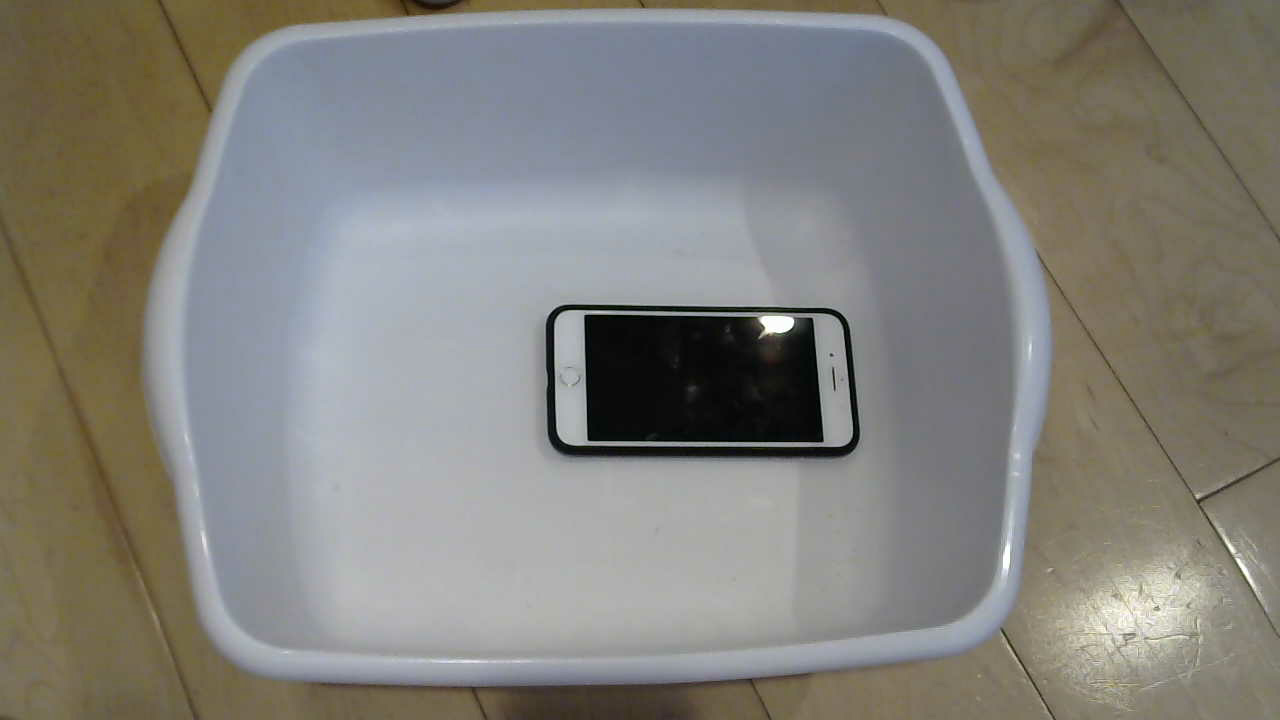phone: (533, 309, 865, 483)
